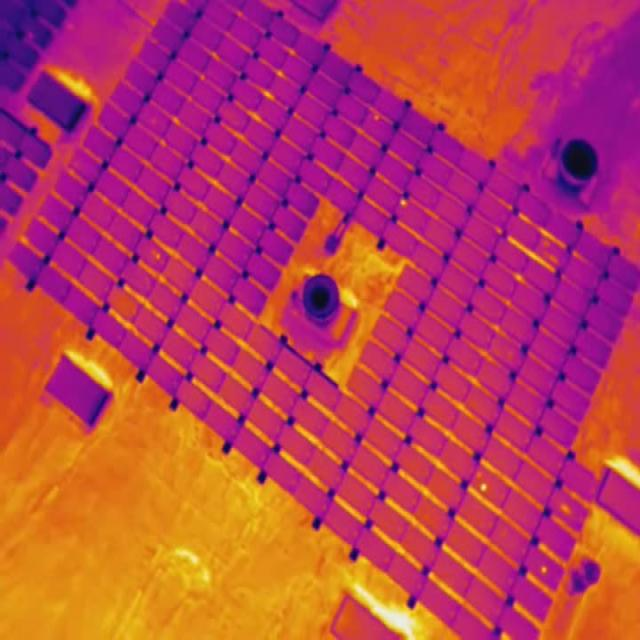Orange-Spots: (560, 504, 570, 514), (152, 250, 161, 261), (480, 484, 488, 492), (400, 200, 408, 207), (550, 255, 558, 262), (541, 566, 548, 574), (543, 240, 549, 248), (476, 472, 482, 478), (374, 115, 379, 120), (29, 32, 33, 38), (545, 252, 548, 256)
